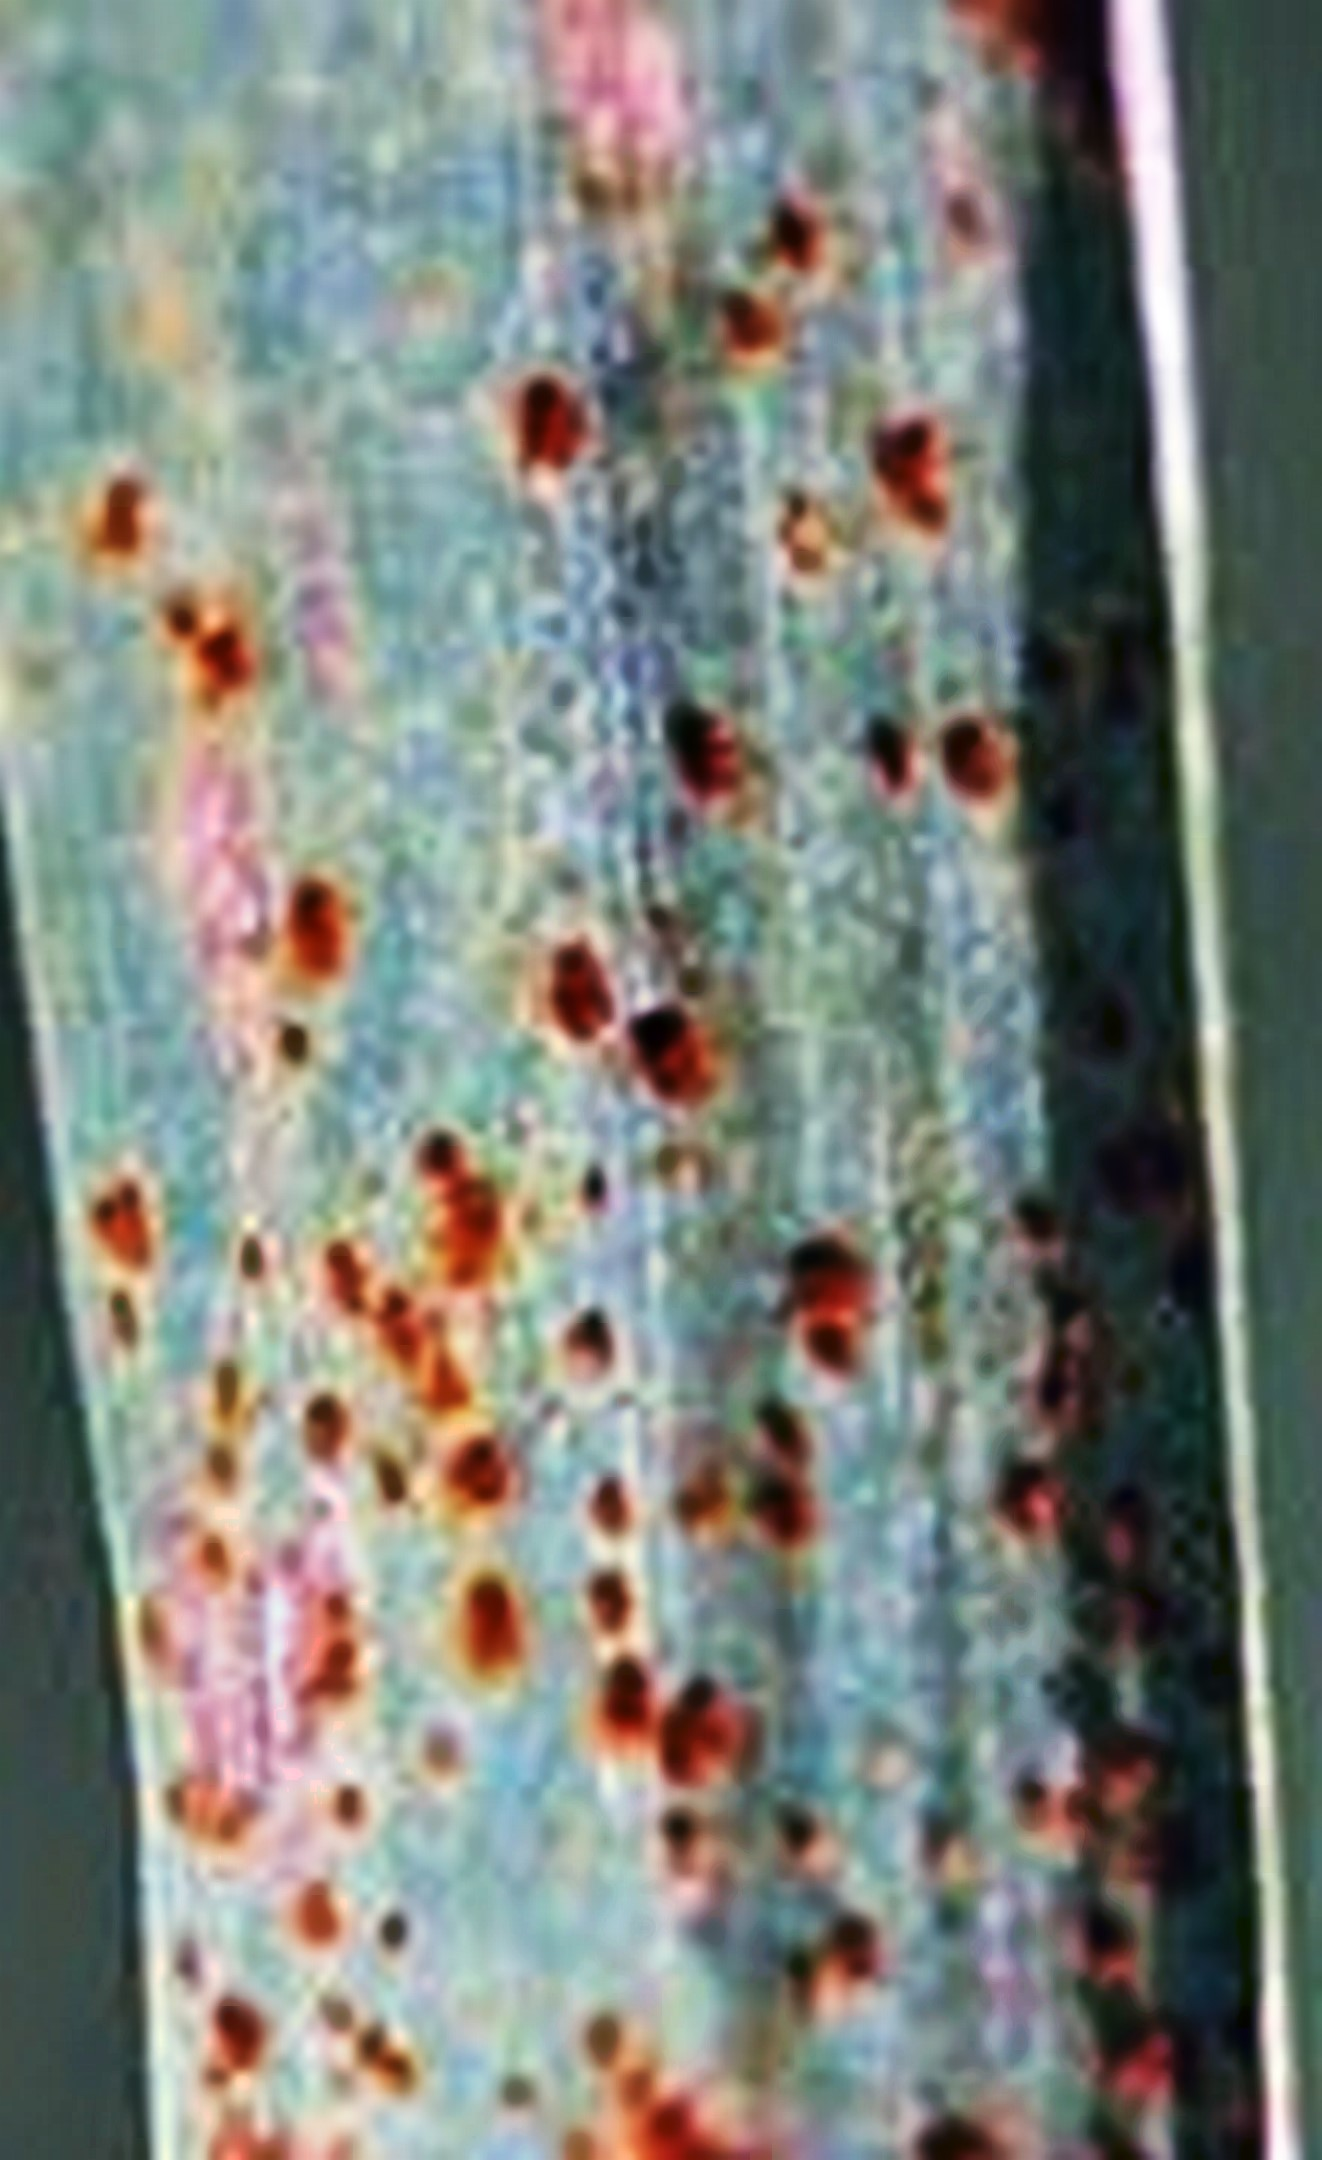Leaf Rust: (28, 488, 1307, 2152)
